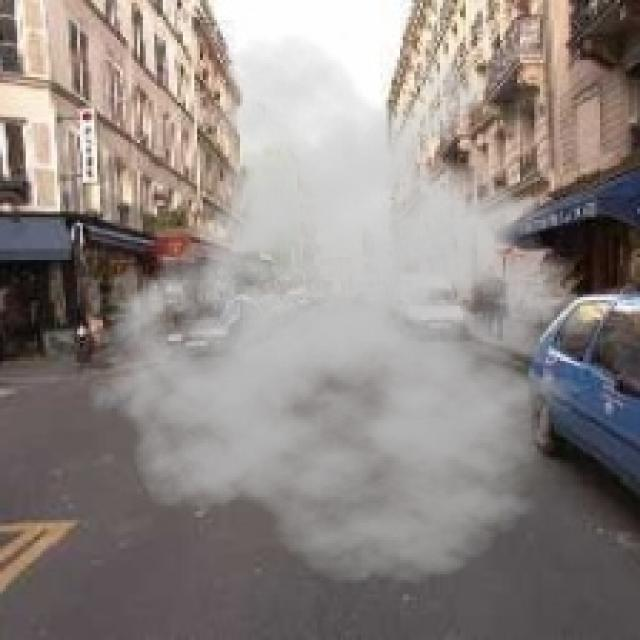Smoke: (74, 31, 637, 586)
